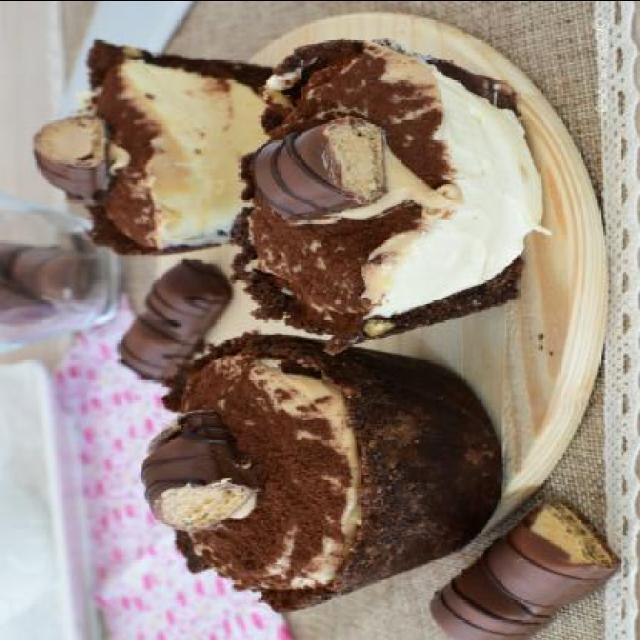Chocolate bar packaged: (430, 498, 614, 640), (256, 112, 390, 226), (116, 256, 230, 386)
